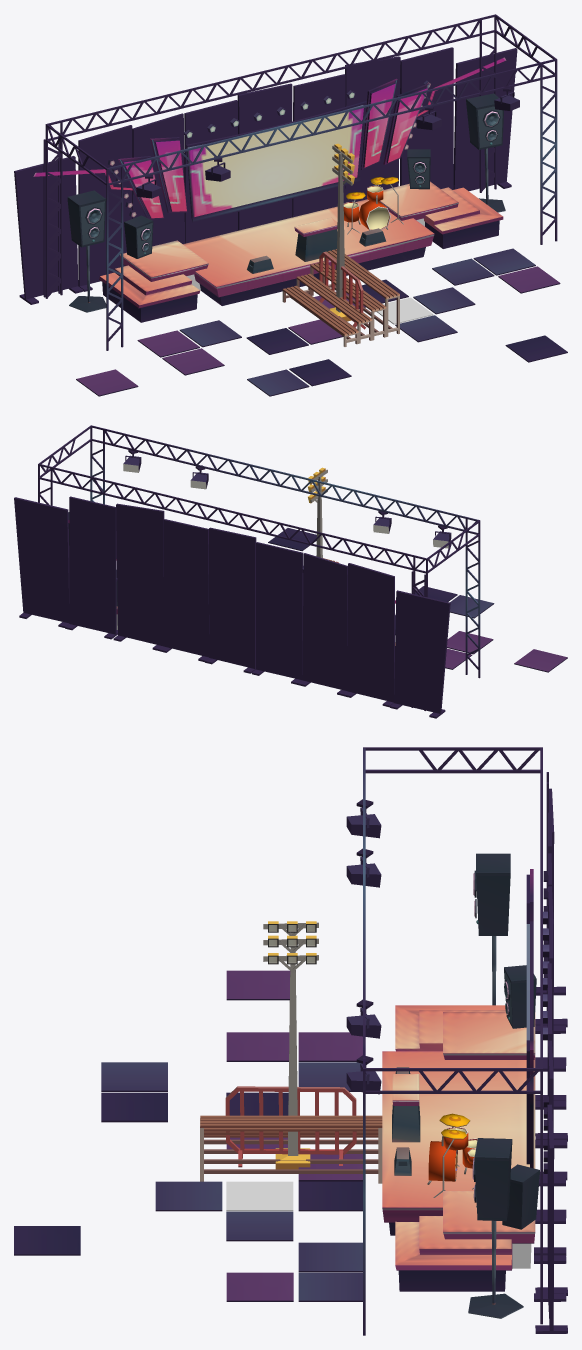
Rendered from concert.glb.
3 views of the same model, one above another, from view 1: azimuth 30°, elevation 25°; view 2: azimuth 150°, elevation 25°; view 3: azimuth 270°, elevation 25° (orthographic). The views are drawn at different scales.
Parts seen in each view (by area): view 1: Cube_056, Cube_094, Cube_049, Cube_076, Cube_029, Cube_050, Cube_075, Cube_035, Cube_036, Cube_079, Cube_078, Cube_074 (+47 smaller); view 2: Cube_074, Cube_079, Cube_075, Cube_078, Cube_076, Cube_073, Cube_049, Cube_050, Cube_077, Cube_036, Cube_035, Cube_041 (+8 smaller); view 3: Cube_094, Cube_029, Cube_085, Cylinder_008, Cube_091, Cube_189, Cylinder, Cube_026, Cube_089, Cube_087, MUSICSTORE_LOD1_003, Cube_084 (+31 smaller).
Part boxes in pixels (<box>): Cube_056: <box>187,105,363,217</box>; Cube_094: <box>183,199,434,297</box>; Cube_049: <box>14,156,83,304</box>; Cube_076: <box>78,125,132,291</box>; Cube_029: <box>282,249,399,346</box>; Cube_050: <box>453,48,517,191</box>; Cube_075: <box>400,47,453,189</box>; Cube_035: <box>108,59,555,185</box>; Cube_036: <box>47,14,495,140</box>; Cube_079: <box>237,83,292,230</box>; Cube_078: <box>184,100,237,243</box>; Cube_074: <box>345,56,400,202</box>; Cube_074: <box>113,503,164,650</box>; Cube_079: <box>205,527,256,673</box>; Cube_075: <box>65,496,117,639</box>; Cube_078: <box>252,542,303,684</box>; Cube_076: <box>344,563,394,707</box>; Cube_073: <box>159,519,209,662</box>; Cube_049: <box>390,590,450,718</box>; Cube_050: <box>14,497,69,627</box>; Cube_077: <box>298,553,347,695</box>; Cube_036: <box>39,464,426,573</box>; Cube_035: <box>91,425,478,534</box>; Cube_041: <box>465,517,480,678</box>; Cube_094: <box>382,1051,535,1222</box>; Cube_029: <box>200,1115,382,1183</box>; Cube_085: <box>395,1216,512,1270</box>; Cylinder_008: <box>468,1138,523,1318</box>; Cube_091: <box>443,1012,535,1059</box>; Cube_189: <box>263,921,318,1169</box>; Cylinder: <box>473,853,510,1005</box>; Cube_026: <box>225,1086,356,1167</box>; Cube_089: <box>395,1005,505,1051</box>; Cube_087: <box>443,1191,535,1243</box>; MUSICSTORE_LOD1_003: <box>427,1113,477,1197</box>; Cube_084: <box>398,1270,505,1291</box>.
Size of the model in its own units: 5.07 by 1.67 by 3.14.
14 materials, 12 textured.
